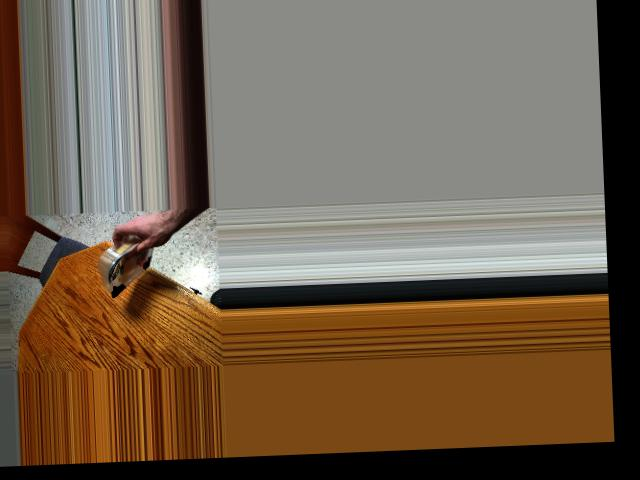cheese: (87, 236, 172, 298)
